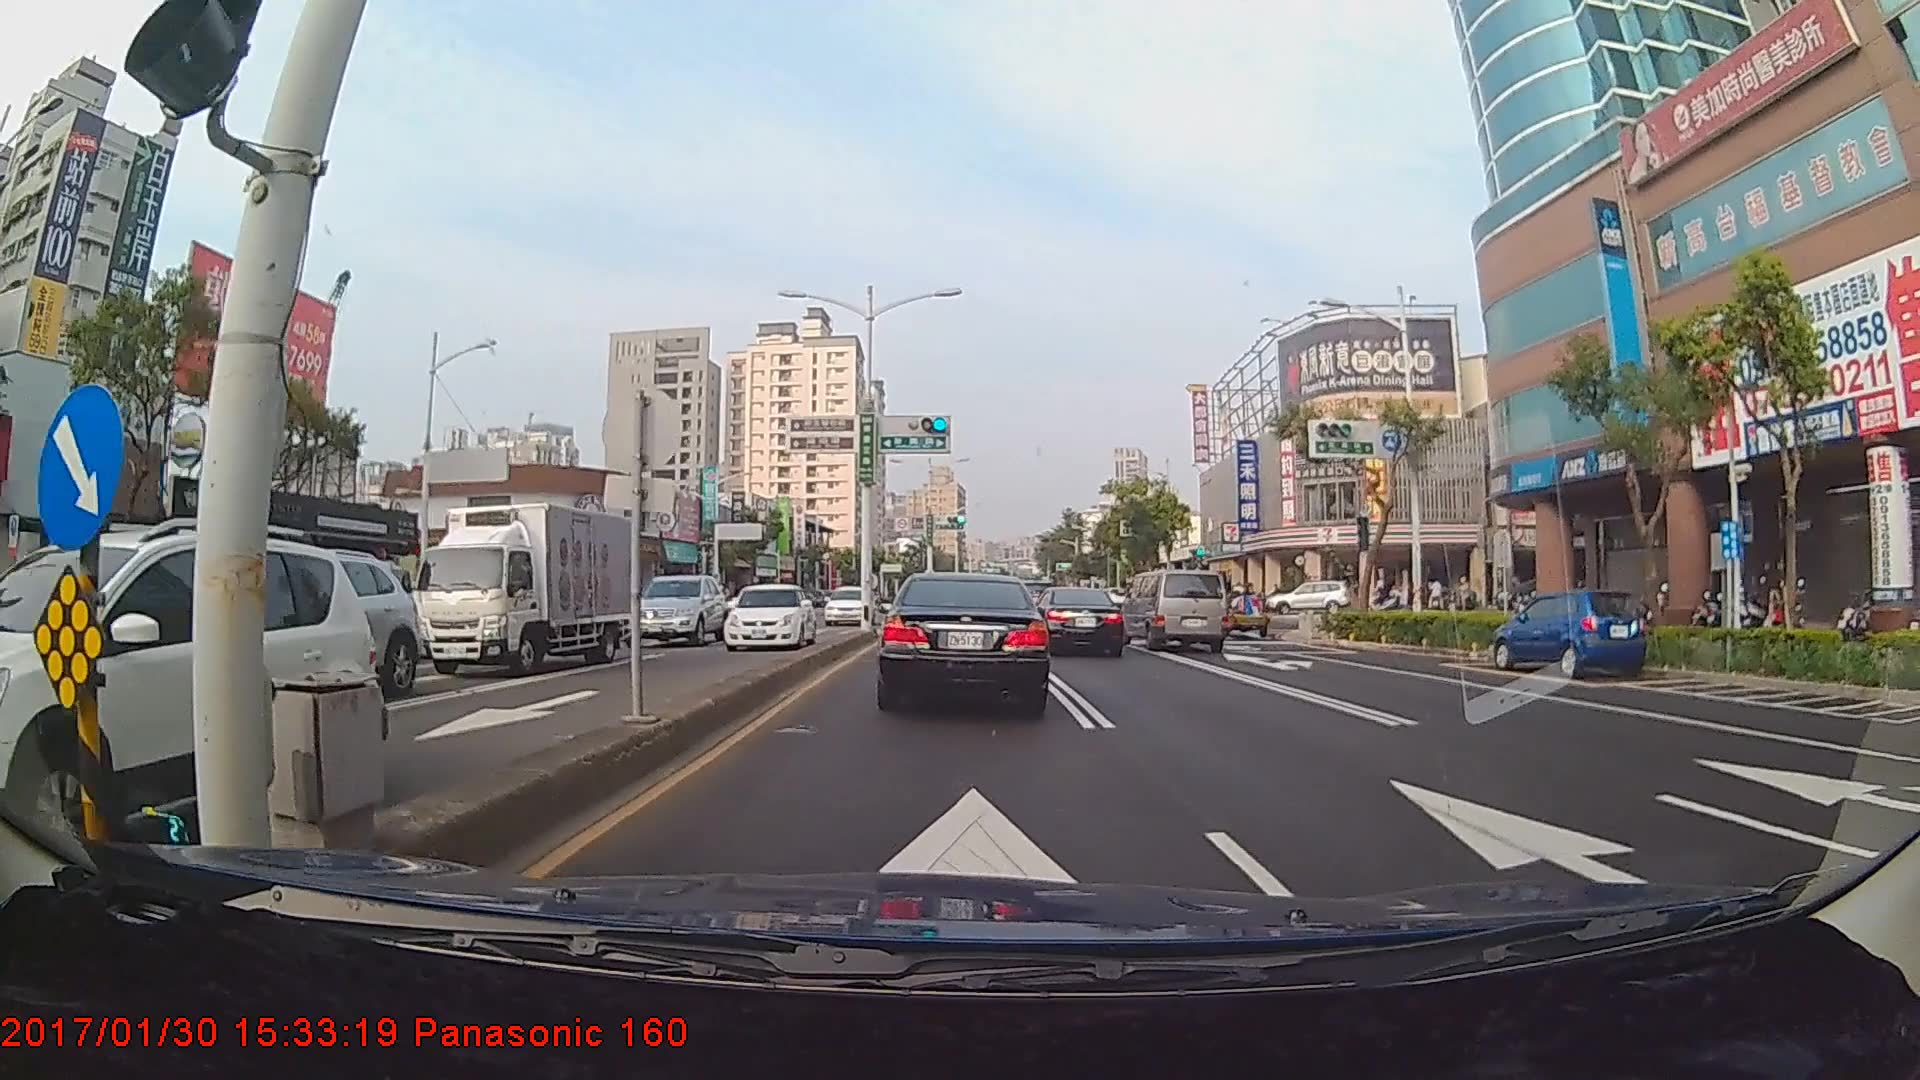vehicle: (0, 529, 375, 868), (404, 495, 638, 676), (193, 543, 417, 696), (881, 568, 1050, 711), (1491, 592, 1644, 676), (1122, 568, 1226, 651), (612, 567, 723, 645), (717, 578, 816, 649), (1031, 585, 1126, 657), (1267, 582, 1349, 616), (819, 582, 868, 624)
